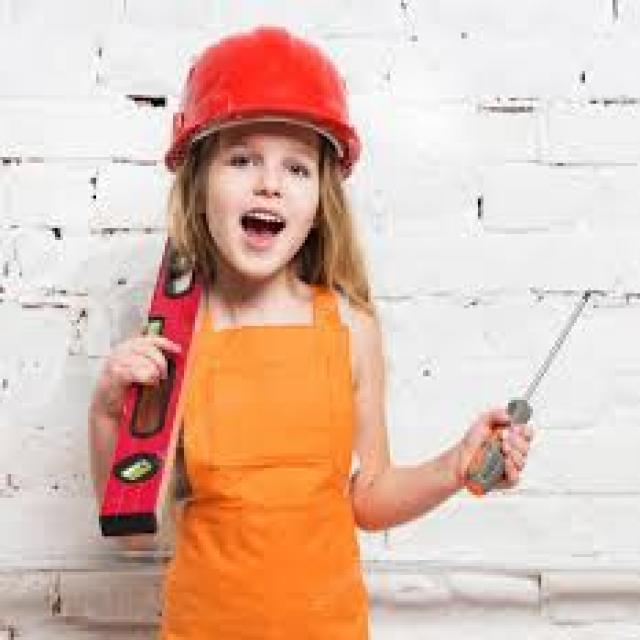screwdriver: (462, 281, 598, 501)
